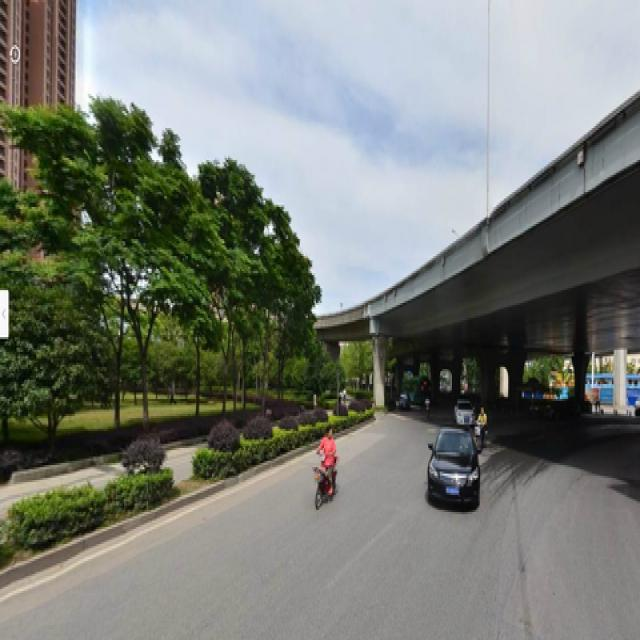koel: (111, 179, 188, 416)
